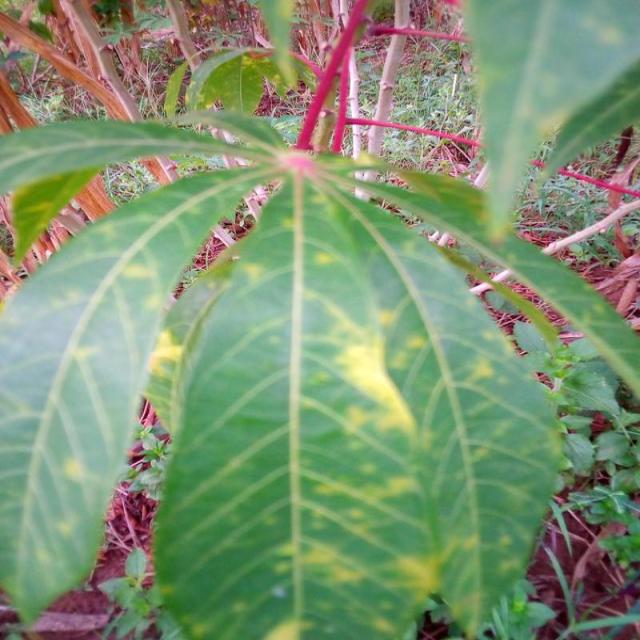cassava leaf: (146, 156, 568, 638), (0, 163, 258, 630)
